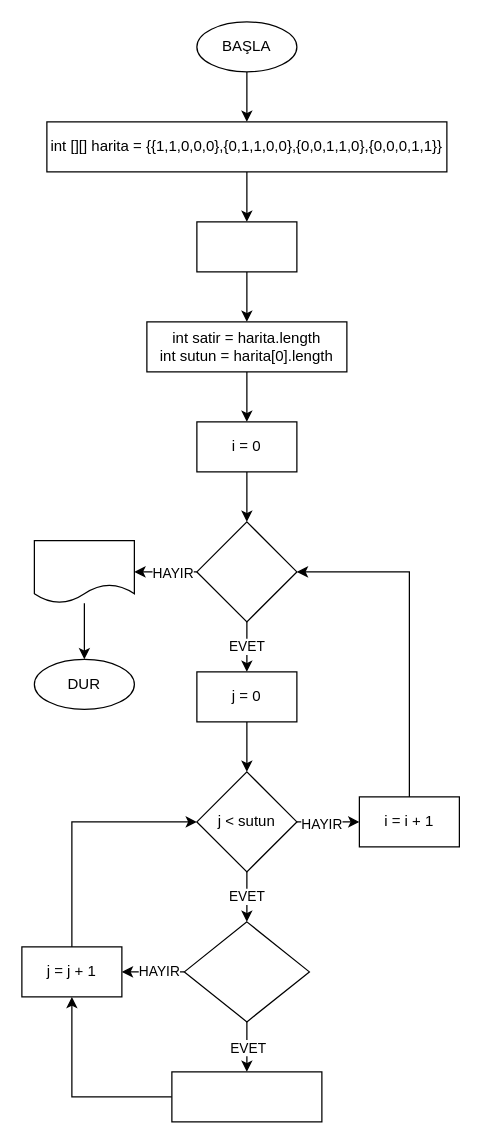
Some shapes in this 481 by 1144 pixel diagram are drawn without their labels. The centre of each missing label's shape, as x and y in pixels:
harita [i][j] == 1: point 246,971
i < satir: point 246,571
String yol = "": point 246,246
yol: point 83,571
yol = yol + i + j + ",": point 246,1096
